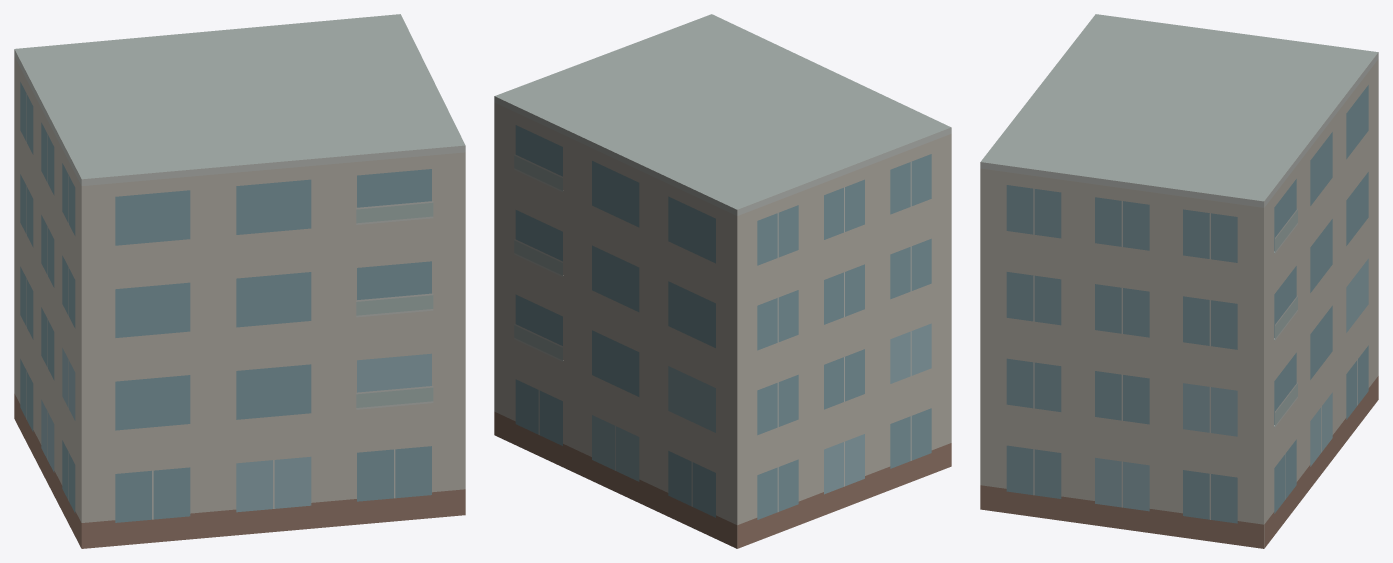
The model's file is survey-upis-32706157.glb.
3 views of the same model, side by side, from view 1: azimuth 30°, elevation 25°; view 2: azimuth 150°, elevation 25°; view 3: azimuth 270°, elevation 25° (orthographic). The views are drawn at different scales.
Parts seen in each view (by area): view 1: survey-upis-32706157.tmp; view 2: survey-upis-32706157.tmp; view 3: survey-upis-32706157.tmp.
Part boxes in pixels (box(x1,y1,x2,y2)): survey-upis-32706157.tmp: box(14, 14, 465, 548); survey-upis-32706157.tmp: box(494, 14, 951, 548); survey-upis-32706157.tmp: box(980, 14, 1378, 548).
Bounding box in the file's own units: 15.22 × 13.15 × 13.67.
